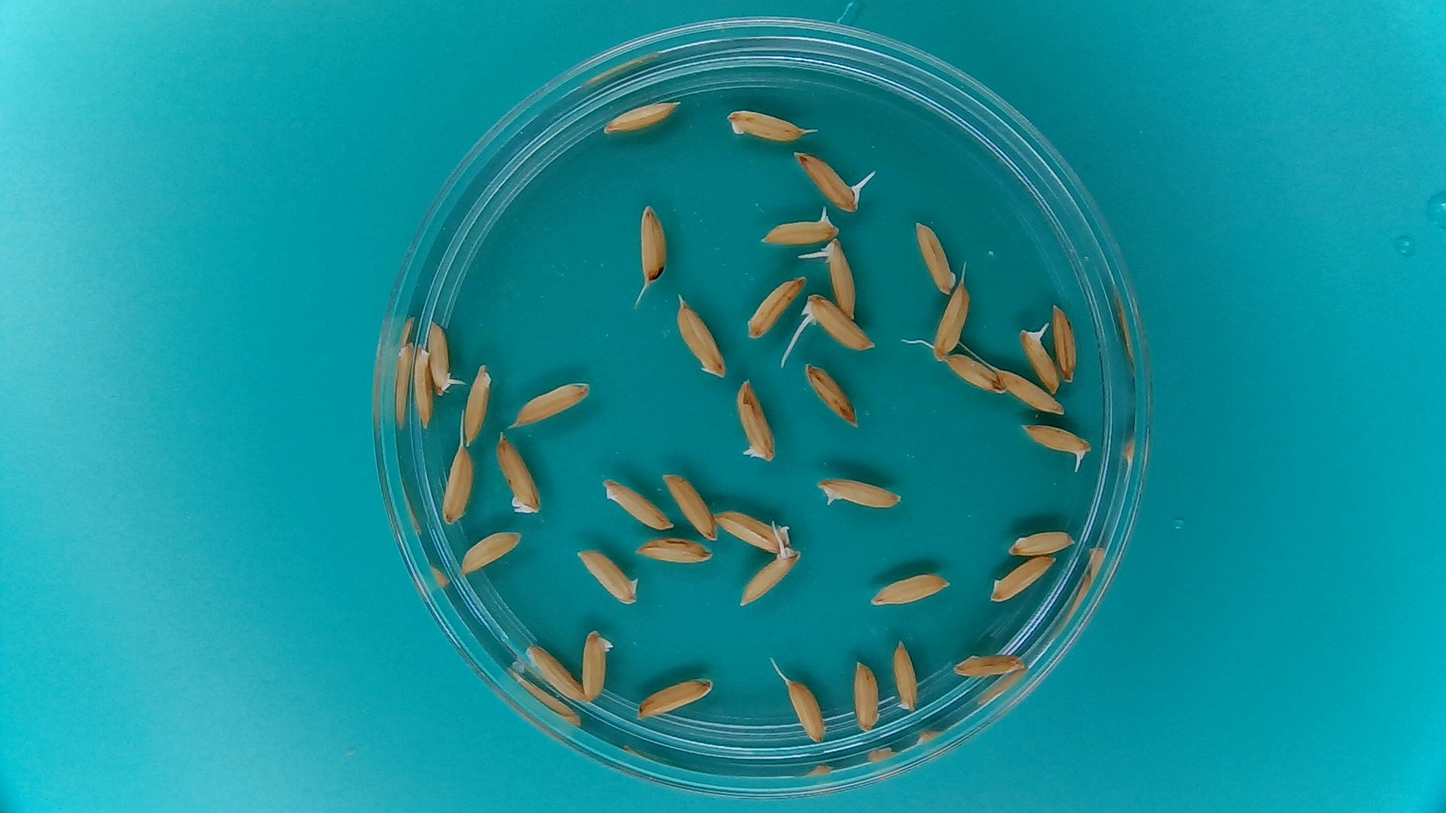no: (673, 295, 729, 379), (494, 428, 545, 517), (745, 272, 807, 343), (599, 475, 676, 531), (575, 544, 641, 606), (662, 467, 717, 541), (509, 379, 593, 426), (987, 550, 1060, 604), (803, 359, 859, 429), (925, 279, 972, 362), (635, 674, 716, 720), (525, 641, 586, 702), (712, 508, 786, 556), (994, 367, 1066, 416), (913, 217, 957, 297), (725, 105, 810, 145), (600, 96, 681, 137), (866, 569, 952, 607), (458, 528, 524, 576), (783, 676, 828, 746), (438, 443, 475, 525), (636, 200, 670, 287), (461, 361, 495, 447), (950, 647, 1027, 681), (581, 626, 615, 703), (850, 658, 884, 734), (889, 638, 923, 714), (633, 535, 712, 565), (1051, 301, 1080, 382), (945, 351, 1001, 392), (1005, 529, 1077, 557), (413, 346, 435, 429)
yes: (797, 290, 878, 353), (792, 147, 862, 212), (740, 543, 804, 607), (734, 376, 779, 465), (756, 206, 843, 247), (815, 474, 904, 512), (1017, 422, 1095, 464), (1018, 321, 1062, 395), (820, 244, 857, 318), (427, 318, 459, 398)
